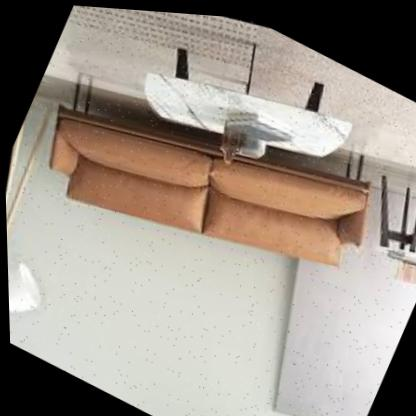Sofa: (0, 5, 415, 365)
